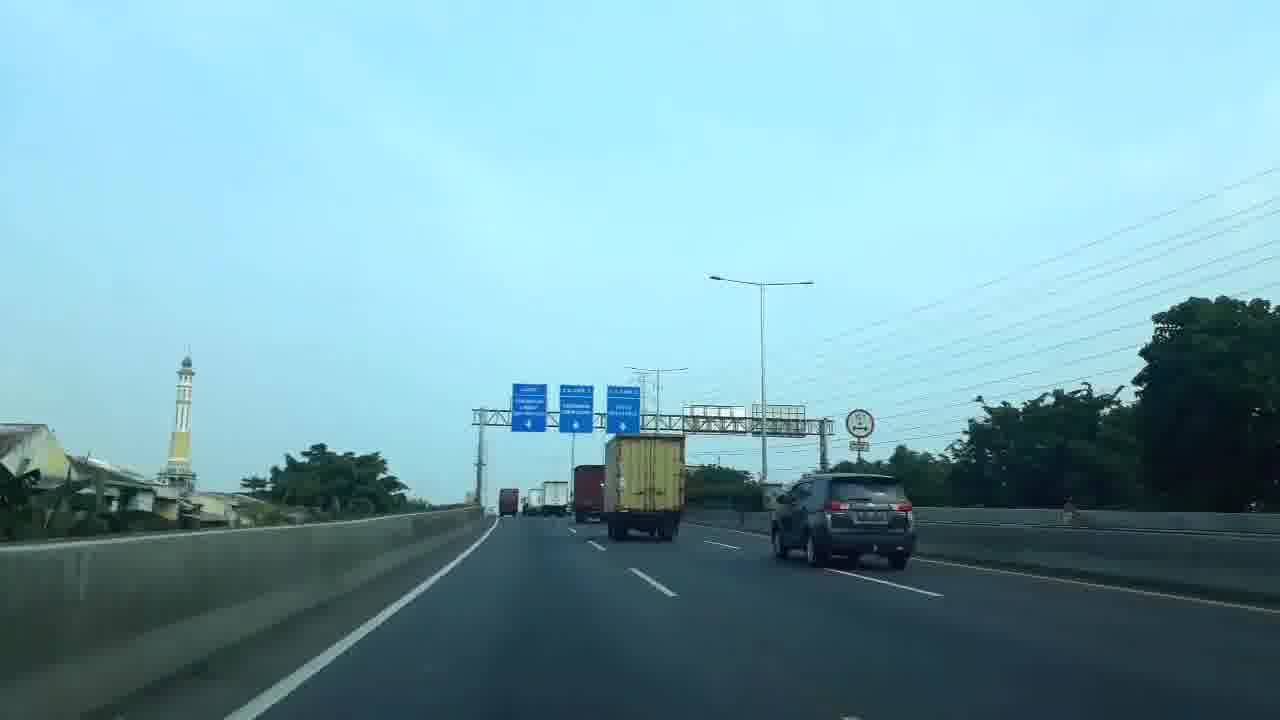plate_positive: (855, 510, 885, 521)
